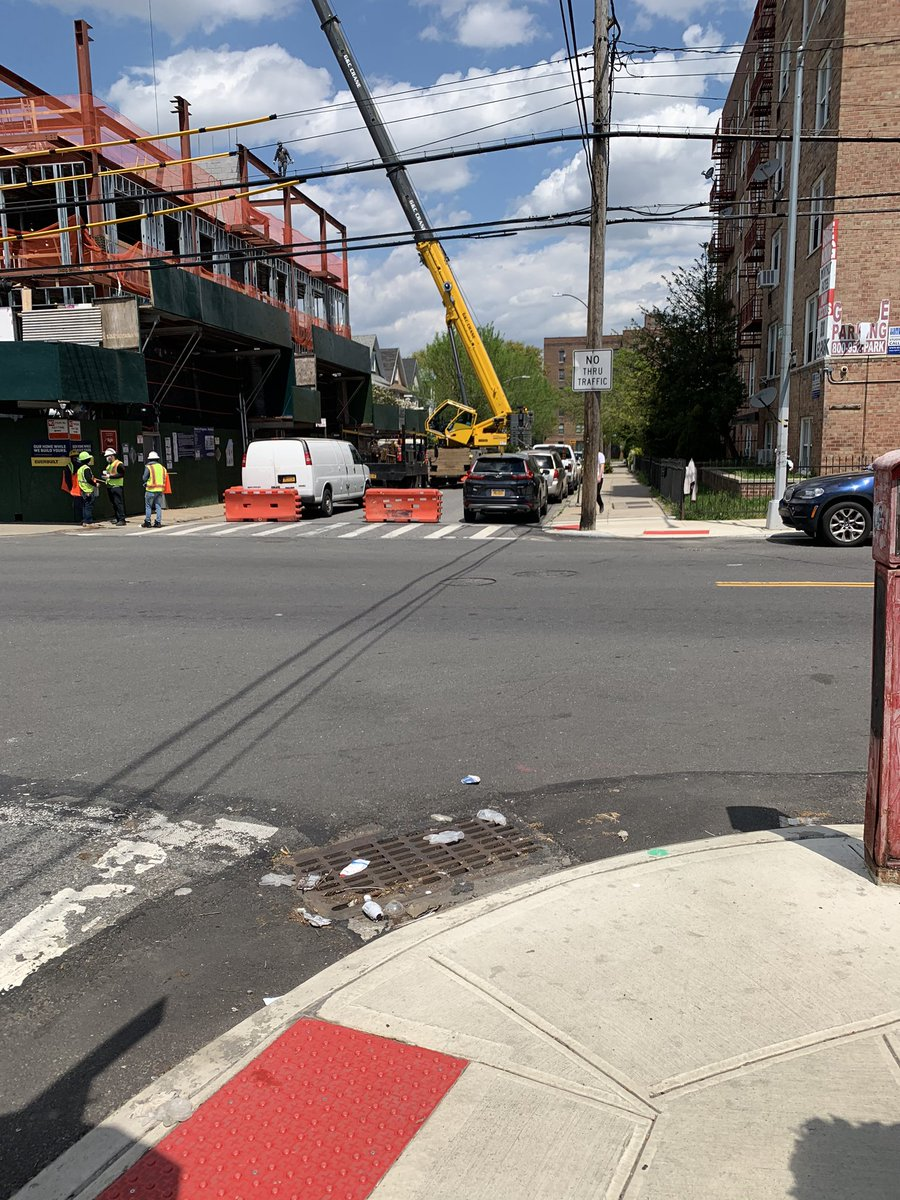building: (1, 55, 388, 527), (705, 1, 900, 497)
car: (462, 449, 544, 536)
crane: (283, 1, 529, 446)
crosswalk: (61, 507, 542, 555)
sky: (288, 1, 714, 292)
street: (1, 544, 864, 1121)
van: (236, 442, 372, 525)
